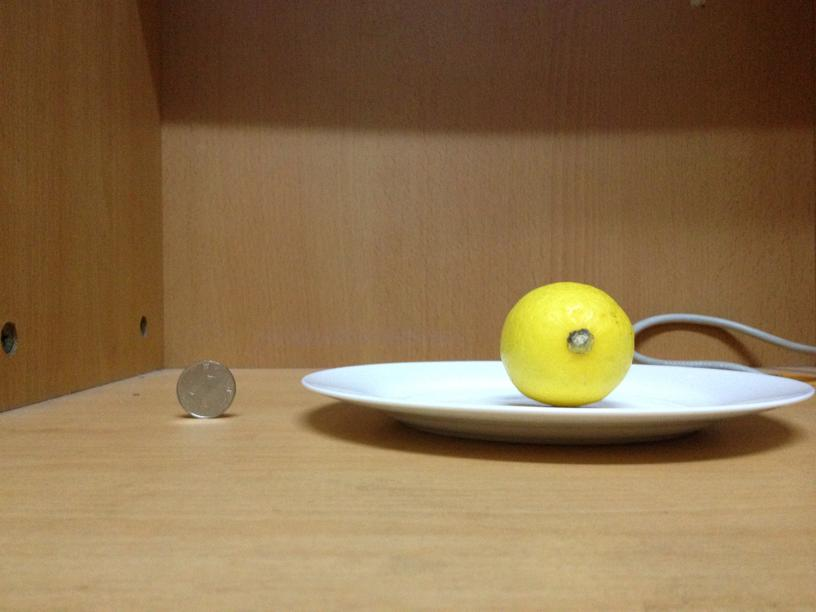coin: (175, 361, 236, 419)
lemon: (499, 282, 634, 405)
